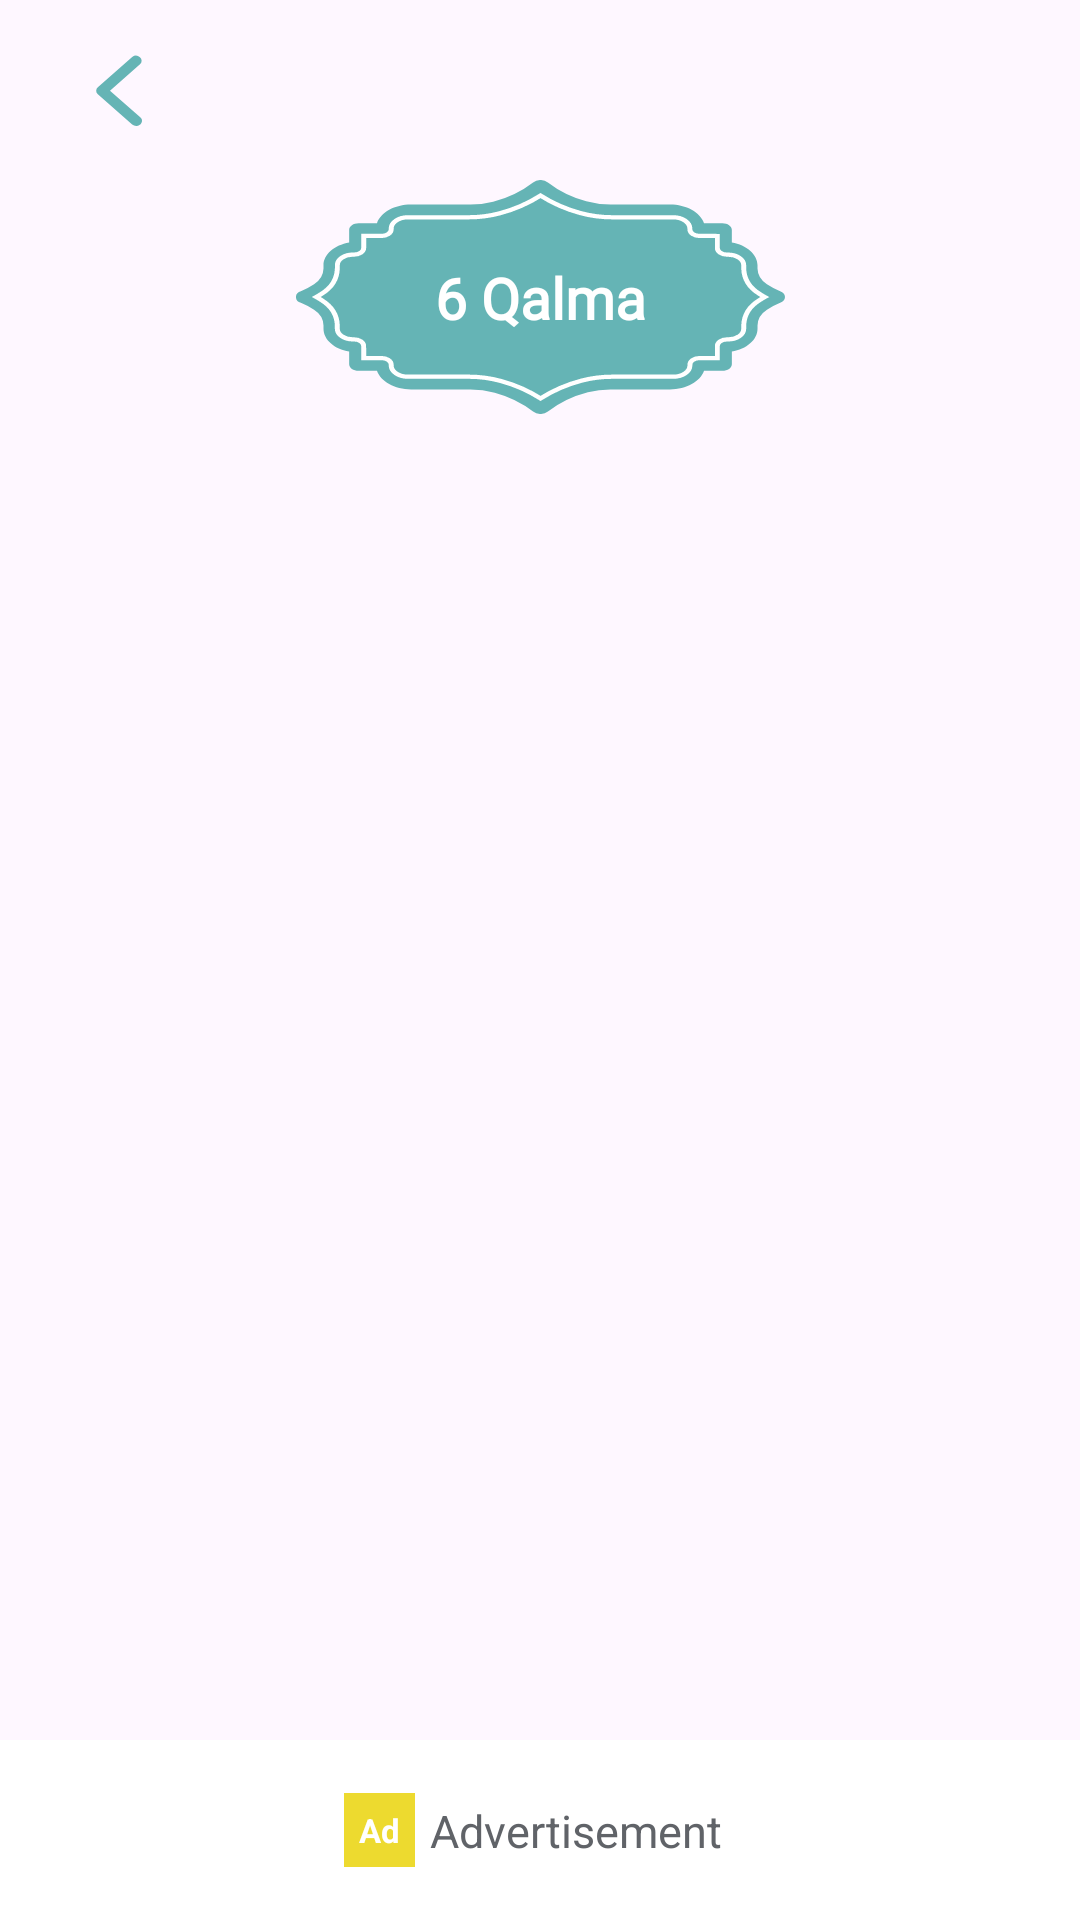

Locate icon controls on the screen. Image size 1080 x 1920, boxes as (x1, y1, x2, y2).
previous: (96, 55, 142, 126)
